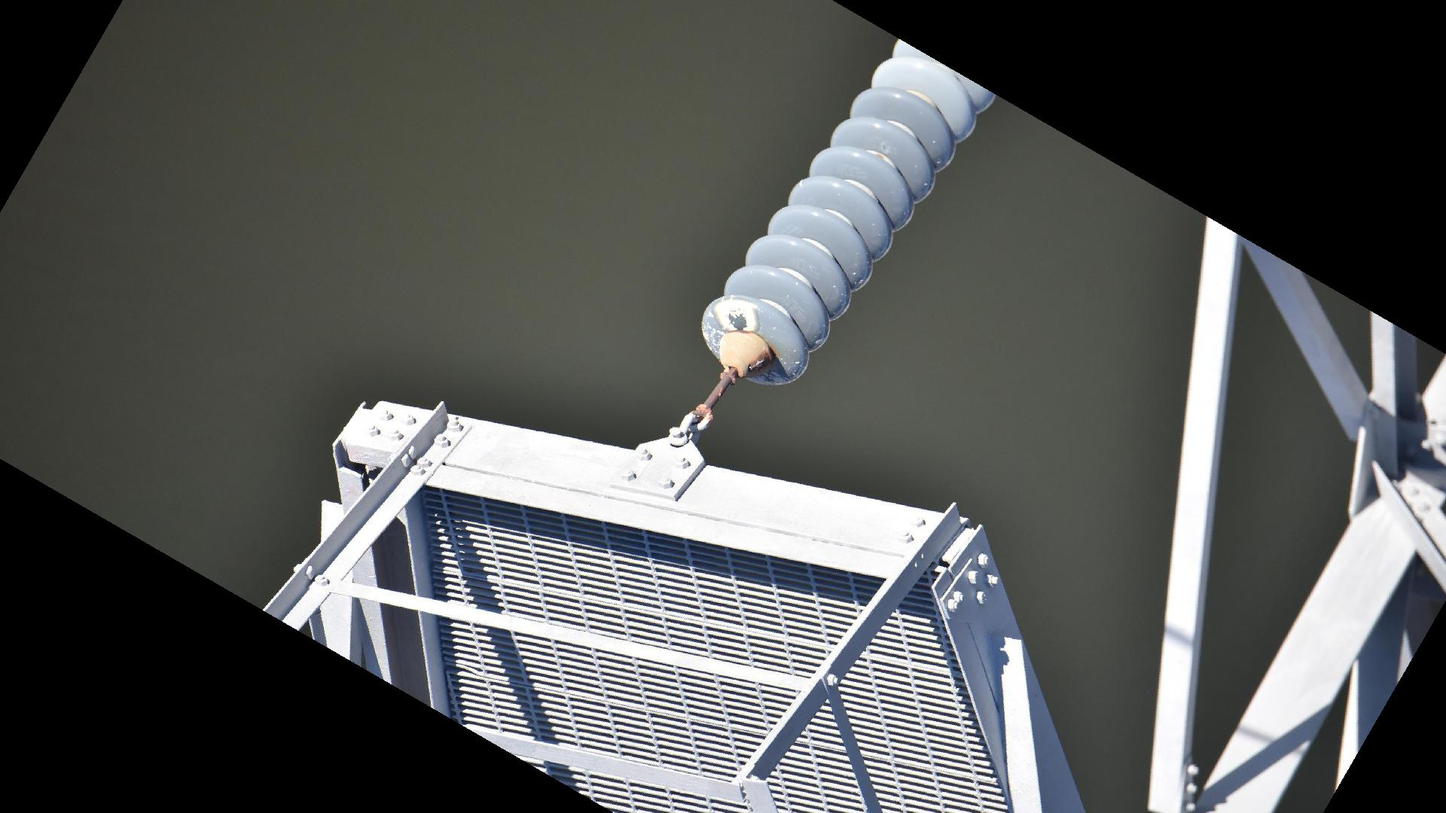insulator: (694, 33, 1005, 391)
insulator_flashover: (709, 296, 762, 336)
